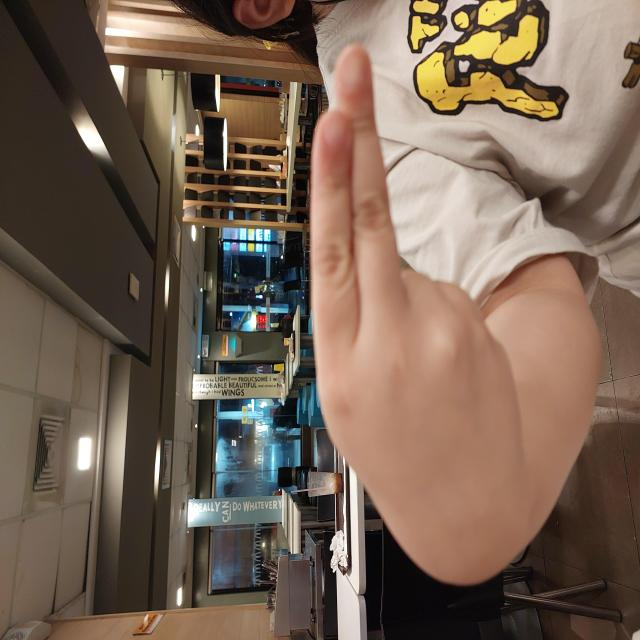H: (53, 307, 597, 524)
